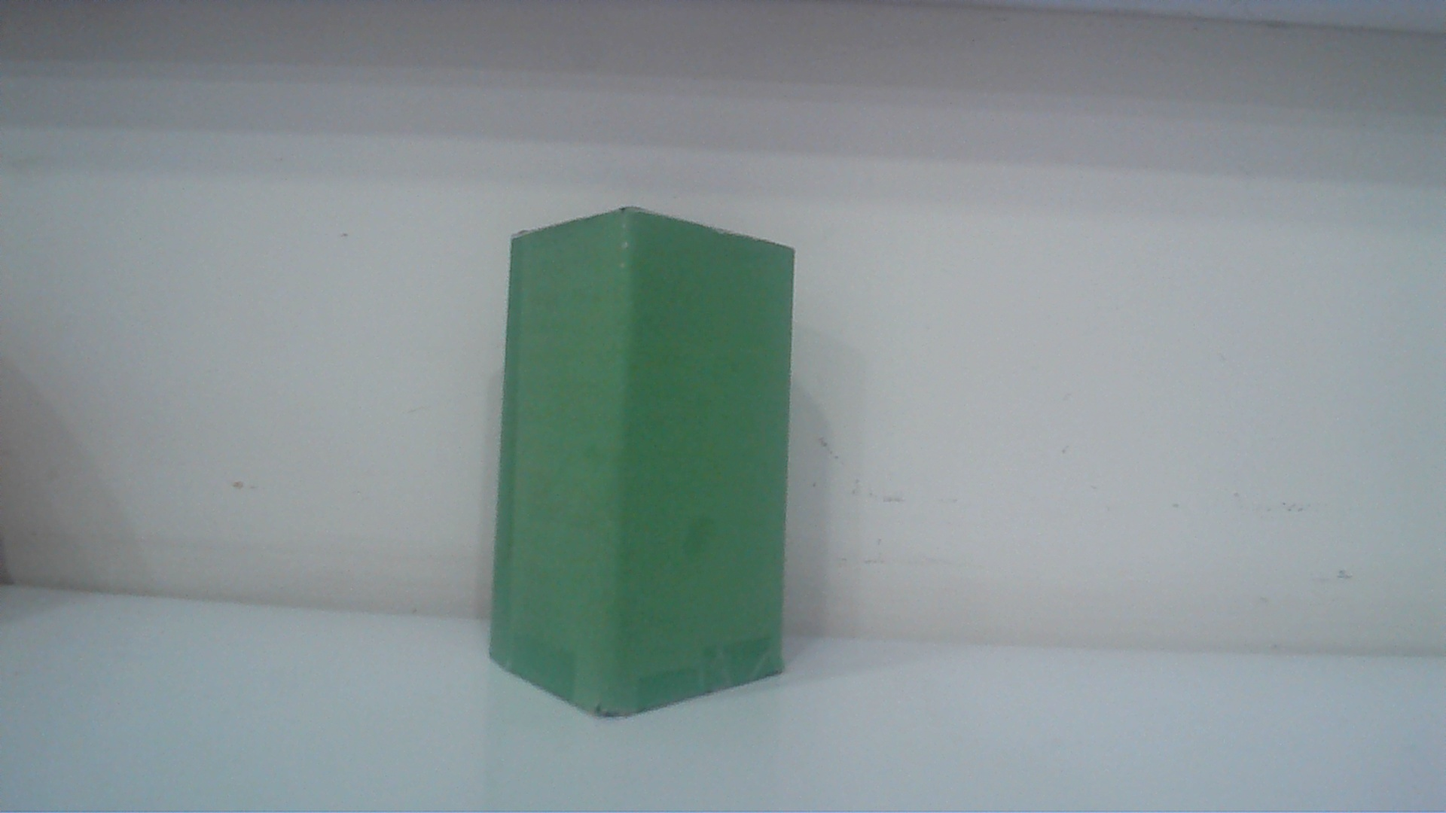green: (477, 201, 813, 737)
